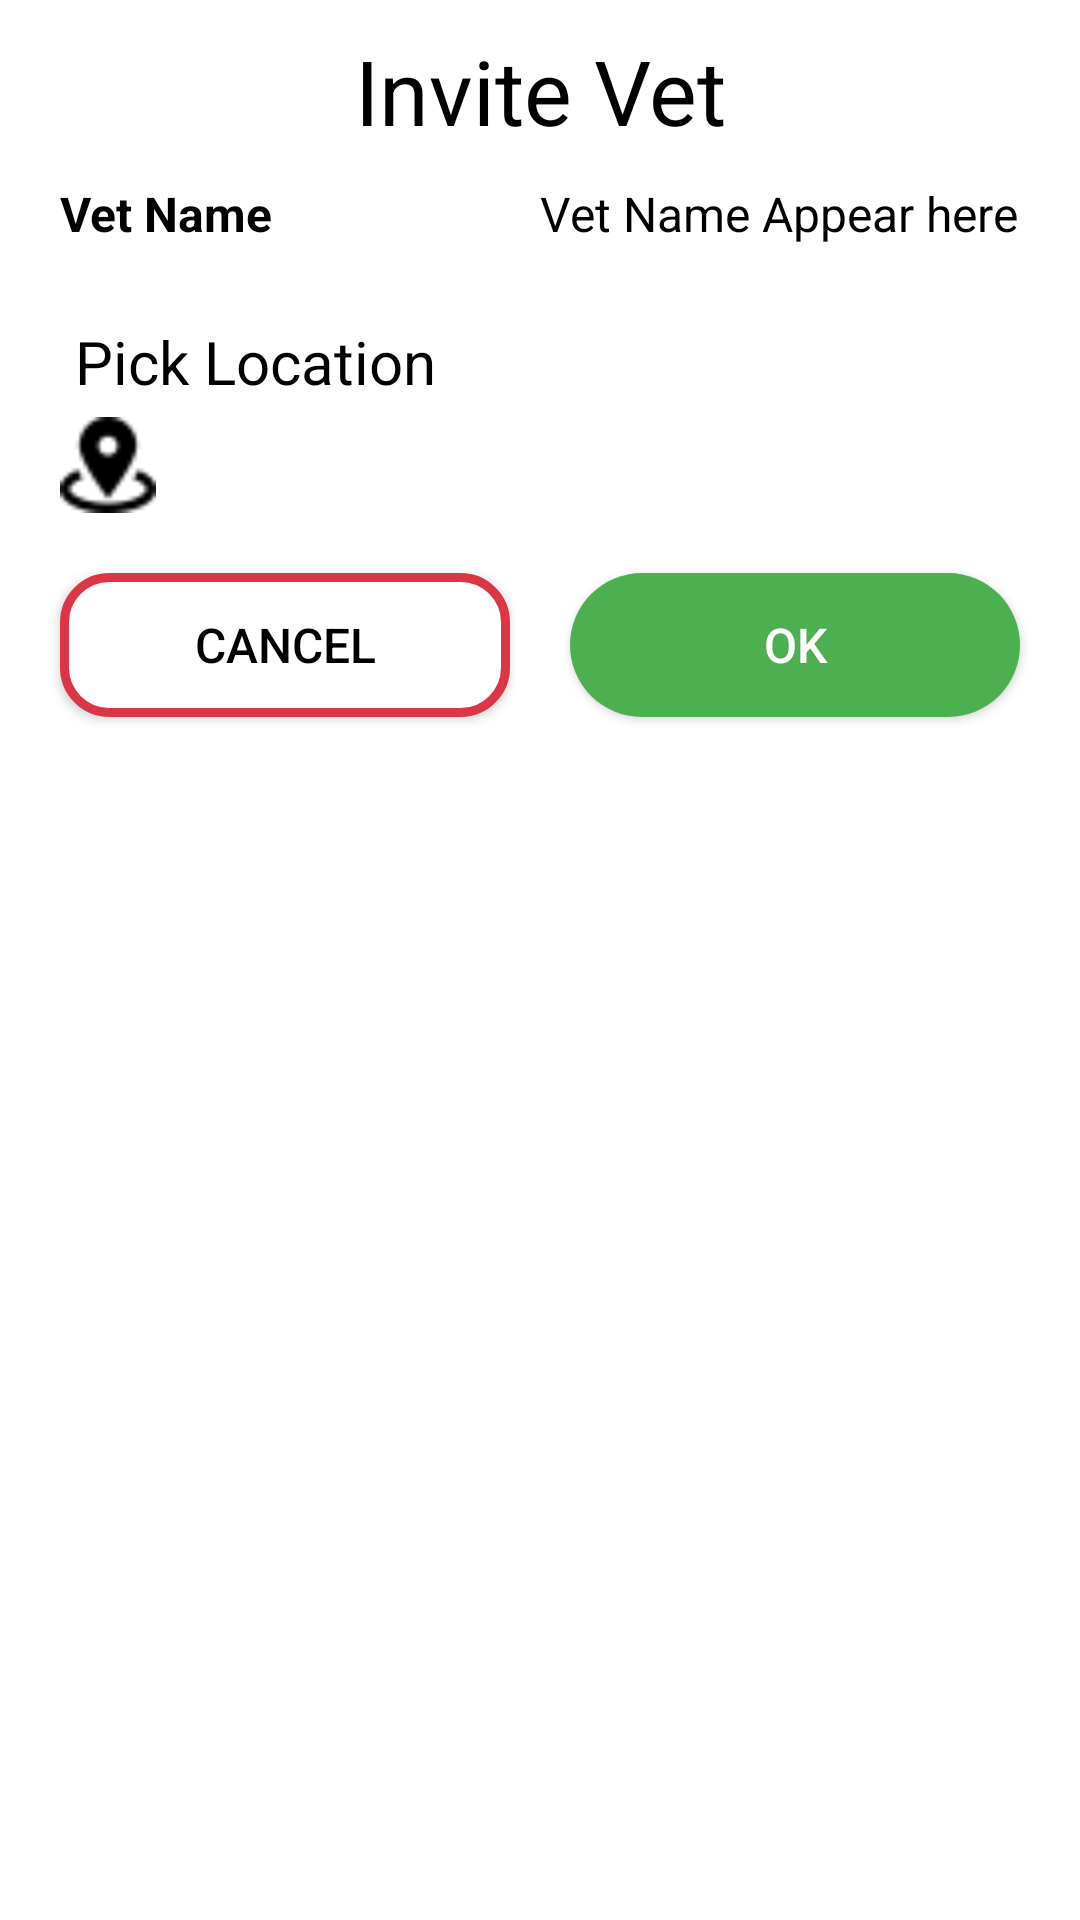

Where icons sit on this 1080*1920 app screen, as [x1,y1,x2,y2]:
location pin: [60,417,156,513]
